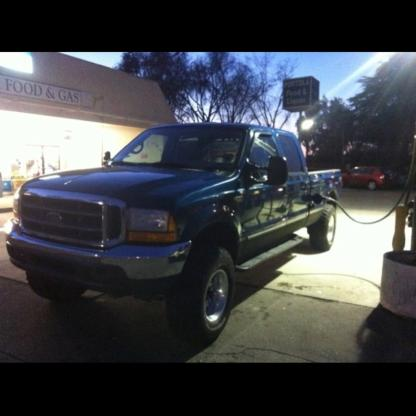Car: (341, 166, 385, 189)
Truck: (6, 123, 343, 340)
